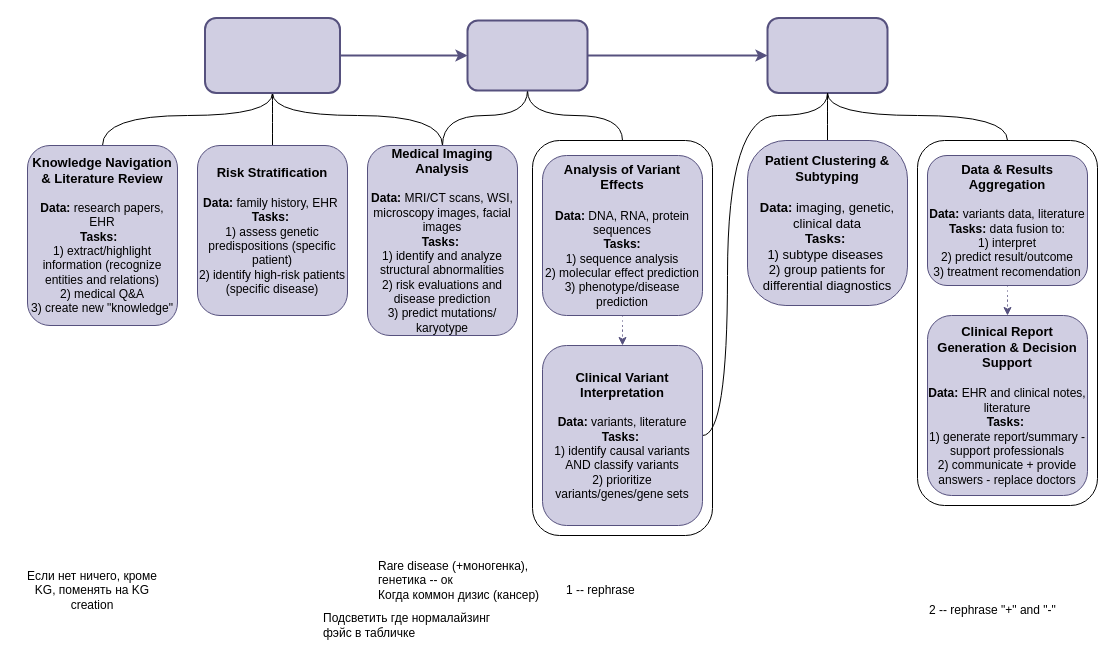
Some shapes in this 1115 by 658 pixel diagram are drawn without their labels. The shapes that lost their labels are listed below. From the top down, each one's centre as x and y in pixels, then its label:
At (272,55): "Pre-analytics (enhancing next steps through existing data)".
At (527,55): "Analytics (data generation, analysis, and interpretation)".
At (827,55): "Post-Analytics (diagnosis and decisions)".
